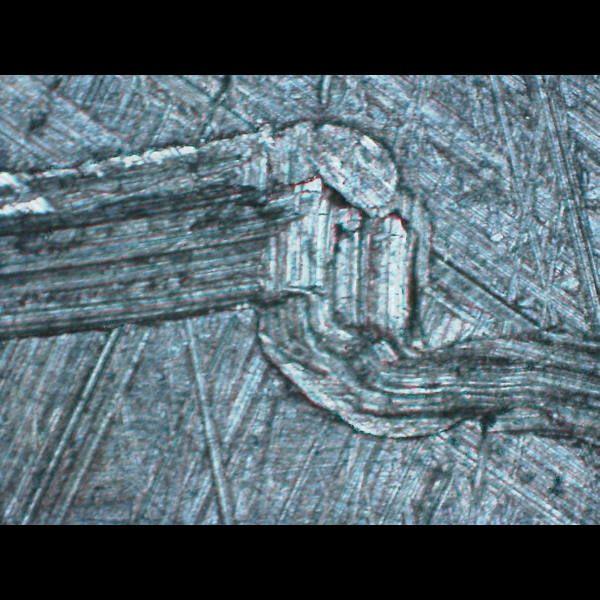d: (4, 114, 600, 475)
